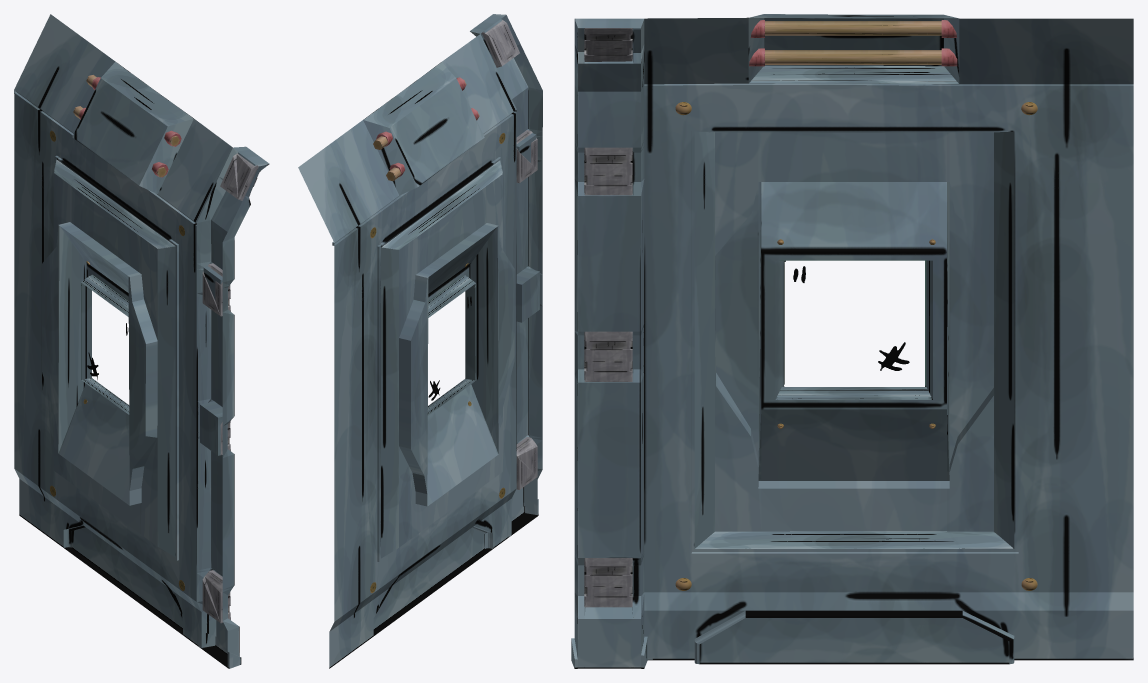
The model's file is WindowWall.FBX.
3 views of the same model, side by side, from view 1: azimuth 30°, elevation 25°; view 2: azimuth 150°, elevation 25°; view 3: azimuth 270°, elevation 25° (orthographic). The views are drawn at different scales.
Visible parts, largest first — view 1: Plane, Box003, Box007, Box006; view 2: Plane, Box003, Box007, Box006; view 3: Plane, Cylinder001, Cylinder007, Box008, Box007, Box006, Box003.
Part boxes in pixels (bbox=[...]): Plane: bbox=[14, 14, 269, 668]; Box003: bbox=[220, 153, 260, 200]; Box007: bbox=[202, 570, 230, 623]; Box006: bbox=[202, 263, 230, 316]; Plane: bbox=[298, 14, 542, 668]; Box003: bbox=[481, 20, 519, 67]; Box007: bbox=[516, 437, 537, 489]; Box006: bbox=[516, 130, 537, 183]; Plane: bbox=[571, 14, 1133, 668]; Cylinder001: bbox=[765, 21, 941, 35]; Cylinder007: bbox=[765, 50, 941, 64]; Box008: bbox=[584, 331, 632, 381]; Box007: bbox=[584, 558, 632, 607]; Box006: bbox=[584, 147, 632, 195]; Box003: bbox=[584, 28, 632, 61].
Bounding box in the file's own units: 25.69 × 128 × 167.
5 materials, 5 textured.
